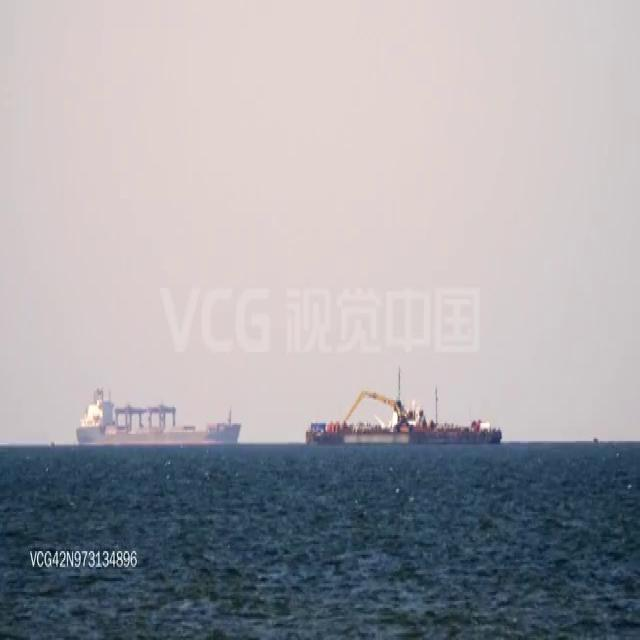cargoship: (301, 383, 504, 448), (72, 385, 244, 449)
